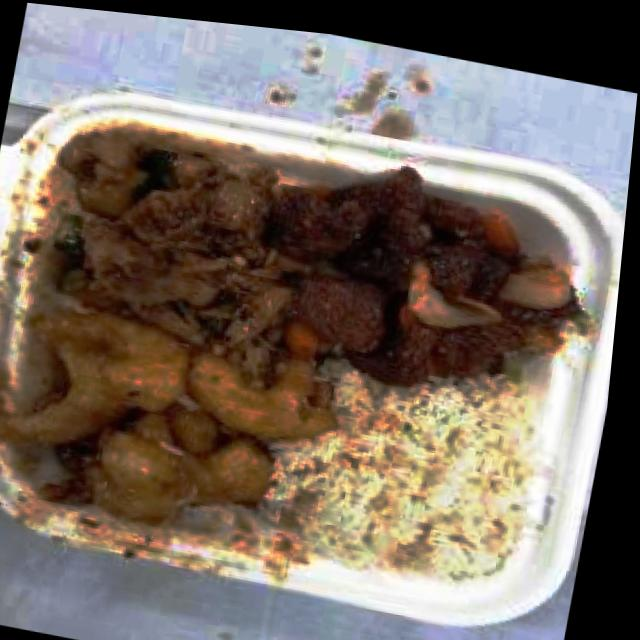Beijing Beef: (250, 141, 607, 412)
Kung Pao Chicken: (46, 131, 283, 348)
rice: (305, 372, 542, 594), (266, 440, 315, 519)
